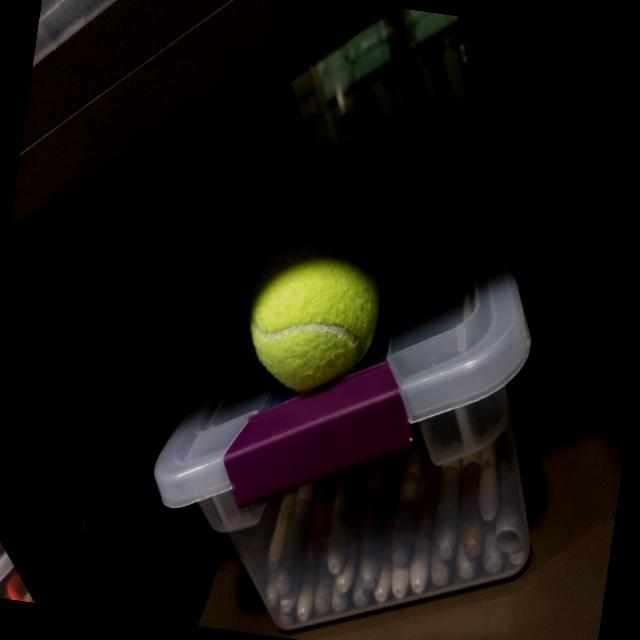tennis-ball: (232, 202, 406, 408)
